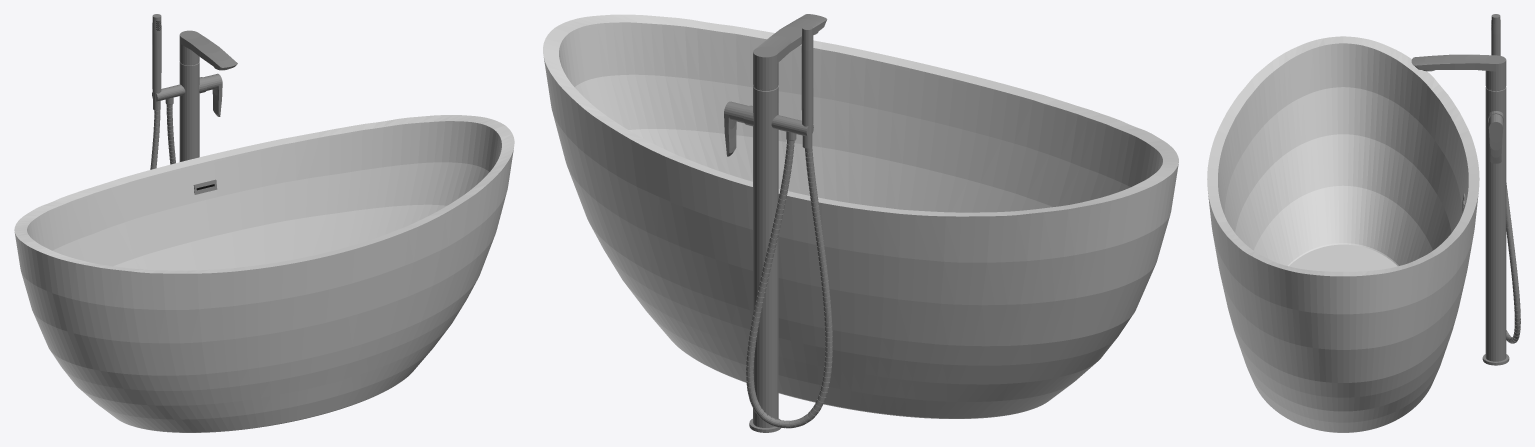
Rendered from islandBath.obj.
The picture shows the model from 3 angles, left to right: view 1: azimuth 30°, elevation 25°; view 2: azimuth 150°, elevation 25°; view 3: azimuth 270°, elevation 25°; orthographic projection. The views are drawn at different scales.
Visible parts, largest first — view 1: bath_Circle, fixedTap_Cylinder, chain_Cylinder.003, handleTap_Cylinder.002; view 2: bath_Circle, fixedTap_Cylinder, chain_Cylinder.003, handleTap_Cylinder.002; view 3: bath_Circle, fixedTap_Cylinder, chain_Cylinder.003, handleTap_Cylinder.002.
Boxes of the visible parts, x1,y1,x2,y2 form: bath_Circle: (14,115,514,432); fixedTap_Cylinder: (152,30,237,161); chain_Cylinder.003: (150,104,175,169); handleTap_Cylinder.002: (152,14,161,92); bath_Circle: (543,14,1178,418); fixedTap_Cylinder: (724,14,827,432); chain_Cylinder.003: (746,140,832,428); handleTap_Cylinder.002: (801,25,813,125); bath_Circle: (1207,36,1479,432); fixedTap_Cylinder: (1411,54,1509,365); chain_Cylinder.003: (1506,183,1520,343); handleTap_Cylinder.002: (1491,14,1500,55).
Bounding box in the file's own units: 170 × 108 × 93.66.
9 materials, 1 textured.
